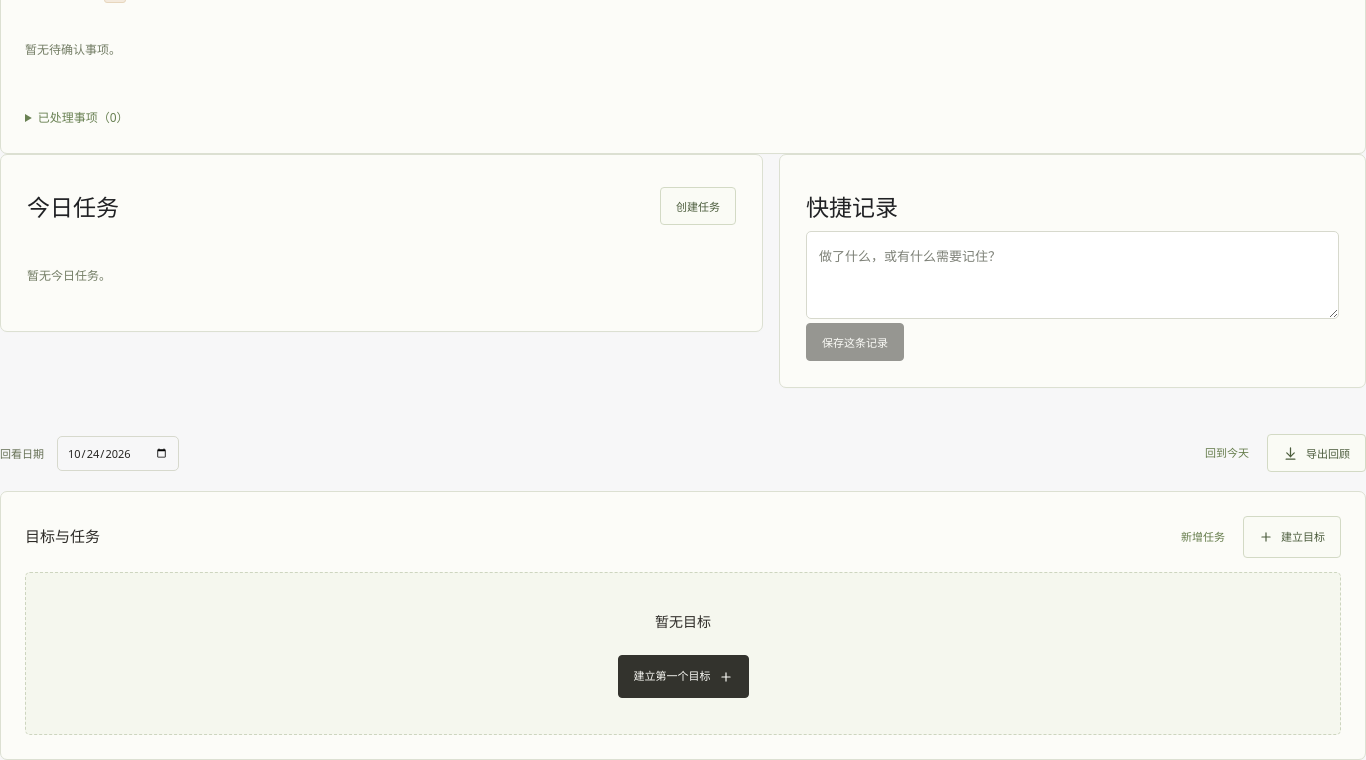
it: recording and approval workflows › retains a failed form so the user can retry without losing text
The width and height of the screenshot is (1366, 760).
(page scrolled)
Click the button "建立第一个目标": click(683, 677) [618,655,748,698]
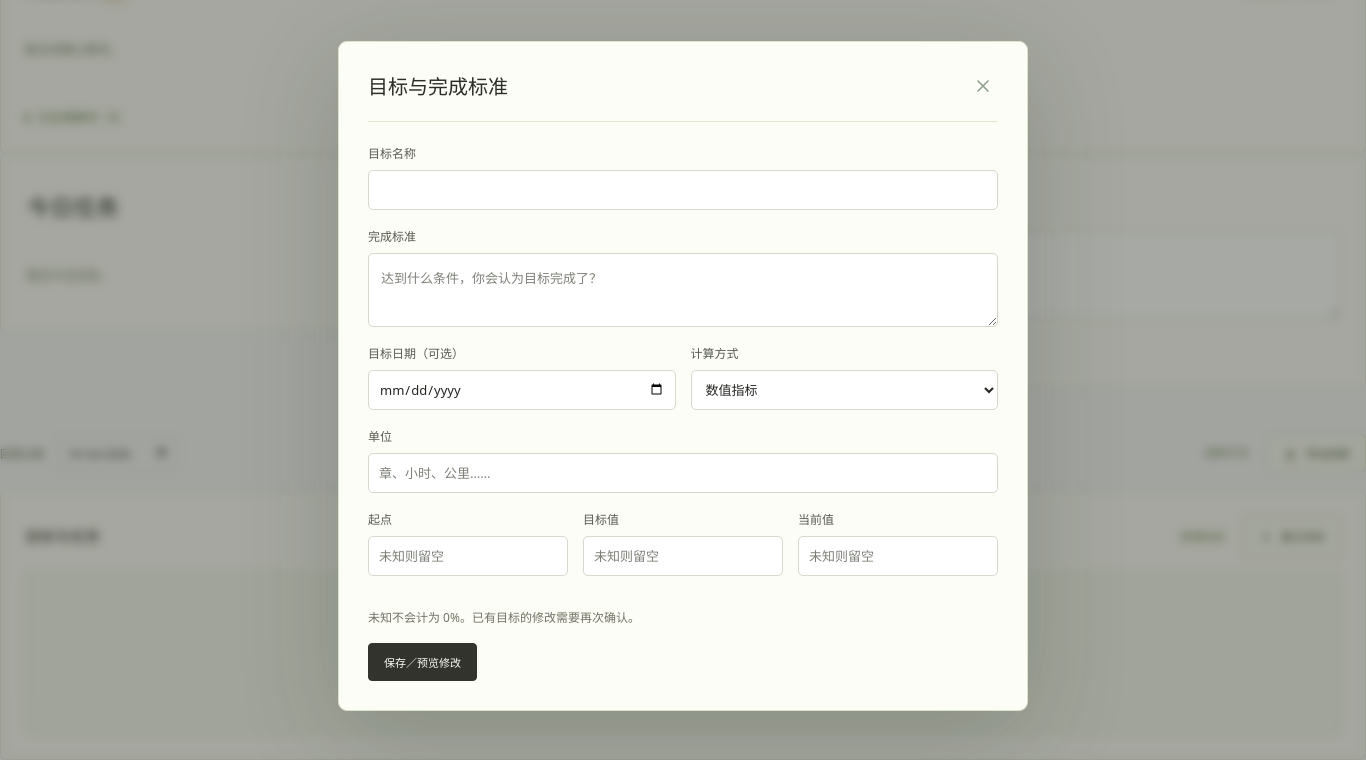
In the field labelled "目标名称": (683, 190) [368,170,998,210], type "整理资料"
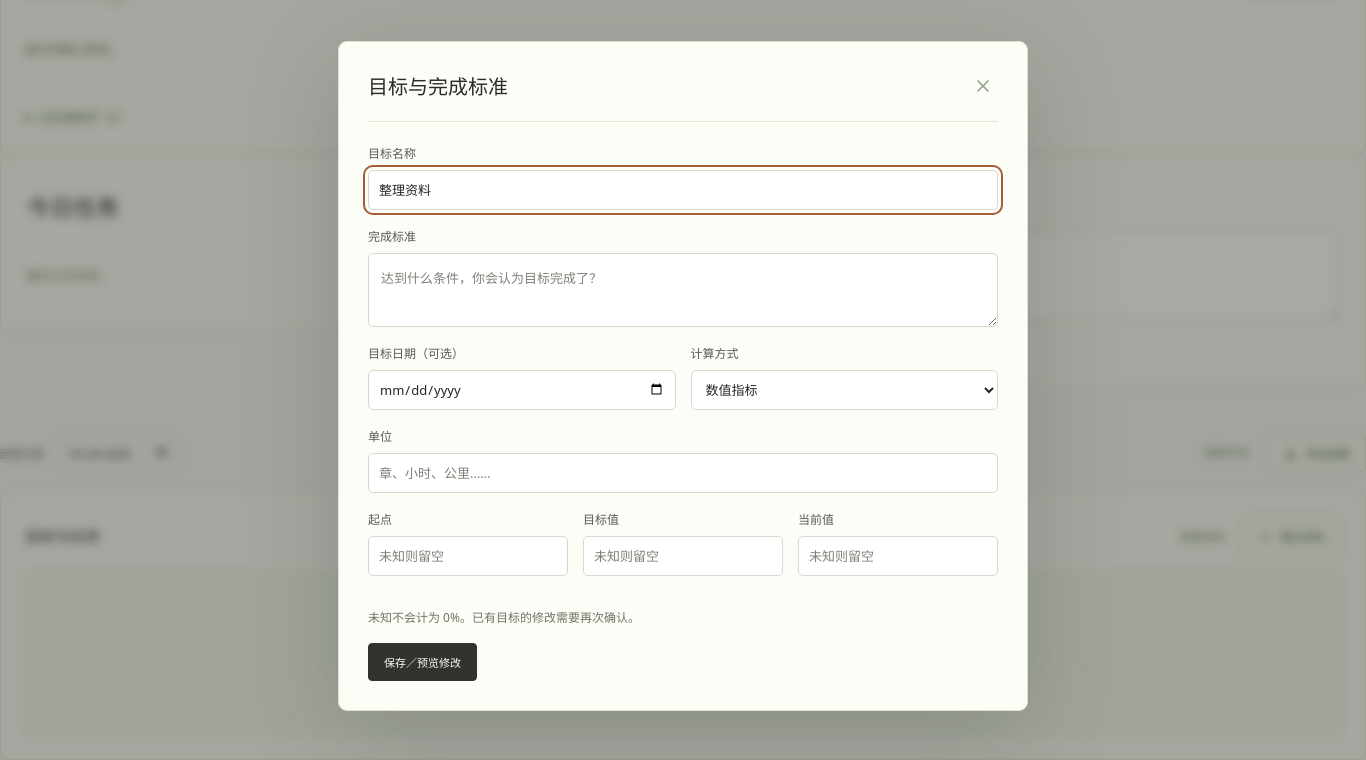
In the text box labelled "完成标准": (683, 290) [368,252,998,327], type "资料已分类"
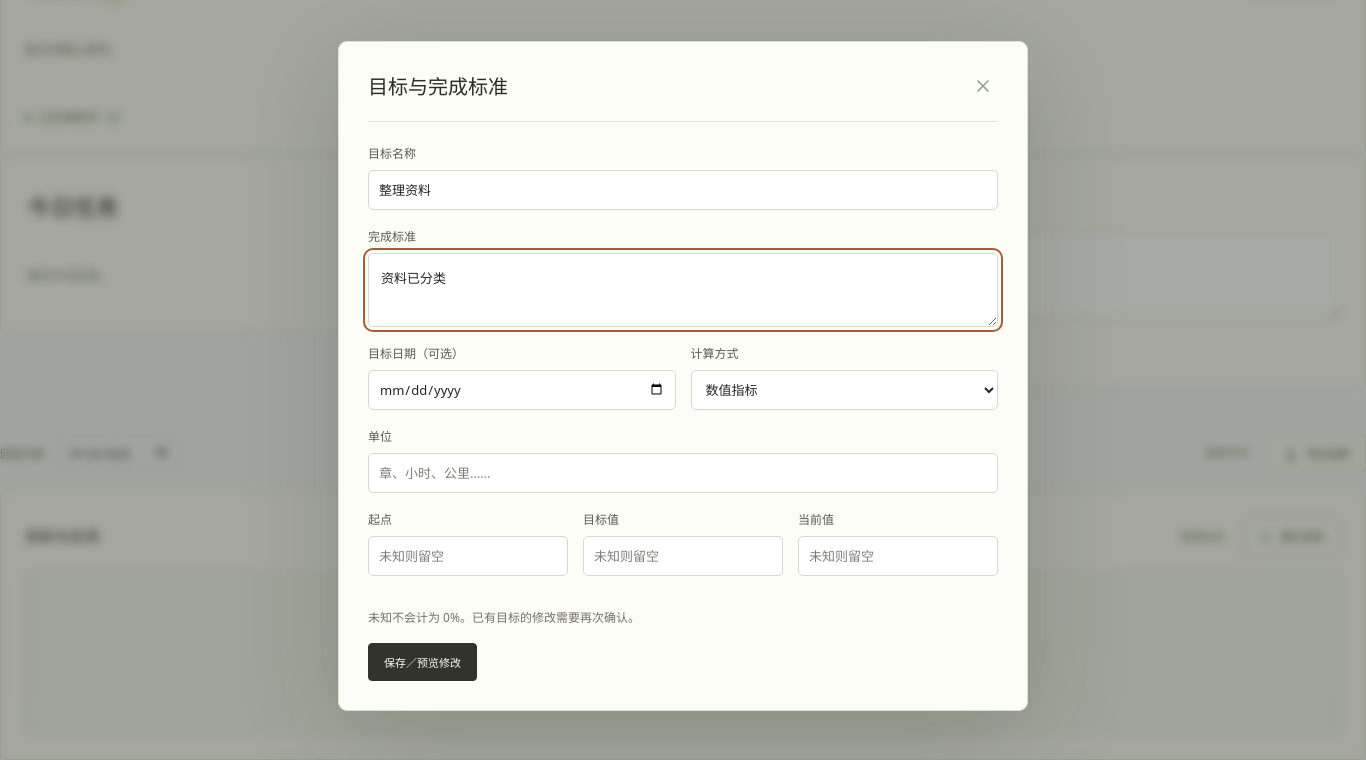
Click the button "保存／预览修改": click(422, 662) [368,643,477,681]
(page scrolled)
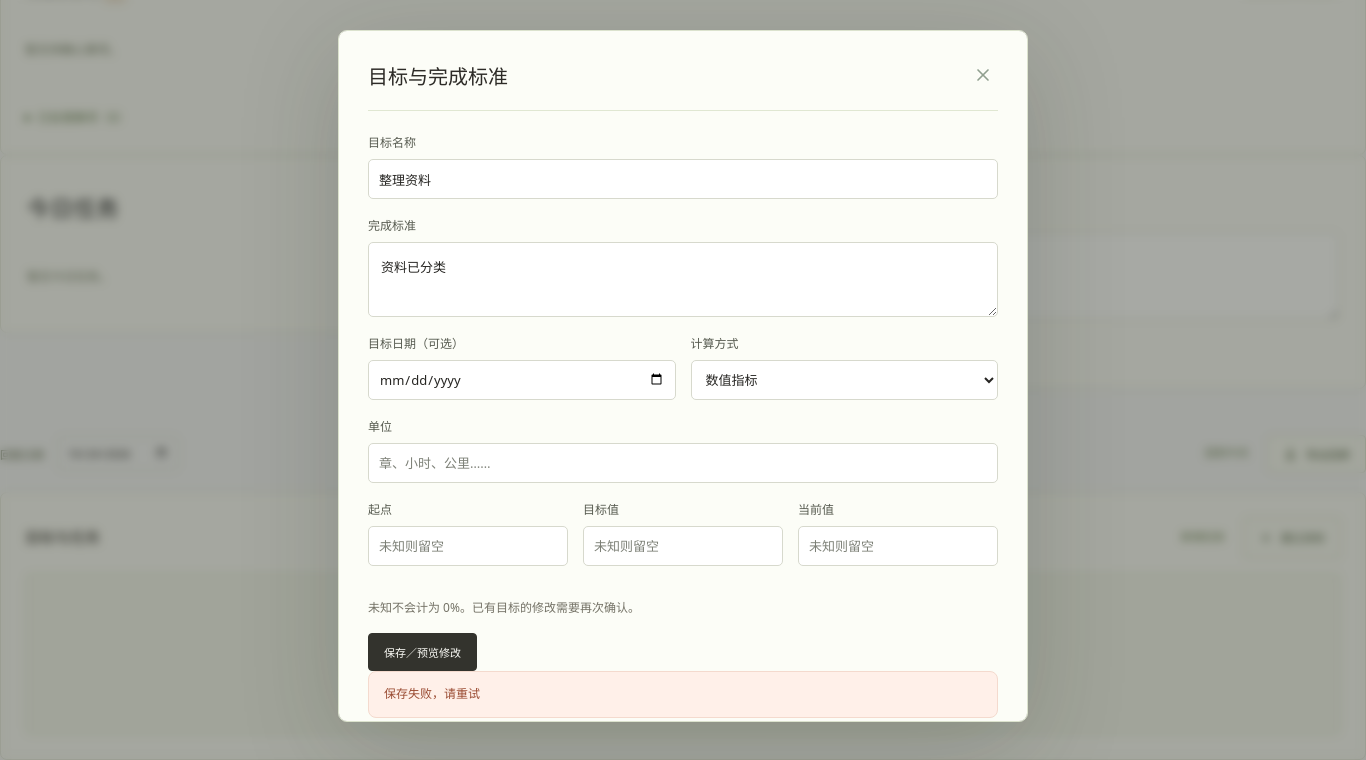
Check: the message shows "保存失败", box [384,685,480,702]
